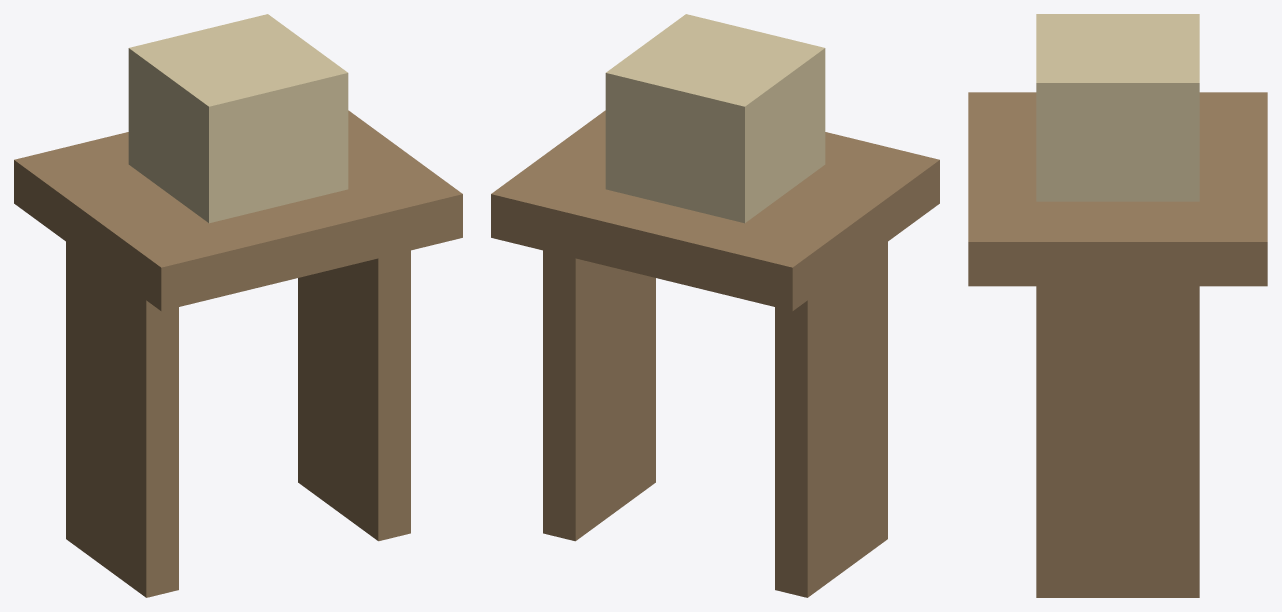
File: zoo-and-safari-park-builder-salt-lick-stand-67c33e29__21478.glb
3 renders of one model, left to right at view 1: azimuth 30°, elevation 25°; view 2: azimuth 150°, elevation 25°; view 3: azimuth 270°, elevation 25°, orthographic.
Visible parts, largest first — view 1: salt-lick-stand; view 2: salt-lick-stand; view 3: salt-lick-stand.
Boxes of the visible parts, bbox=[...] form: salt-lick-stand: bbox=[14, 14, 462, 597]; salt-lick-stand: bbox=[491, 14, 939, 597]; salt-lick-stand: bbox=[968, 14, 1267, 597].
Size of the model in its own units: 0.65 by 0.98 by 0.55.
